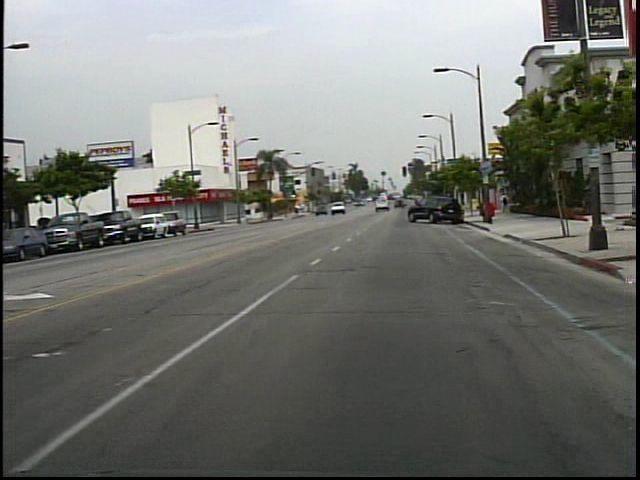person: (501, 190, 516, 219)
